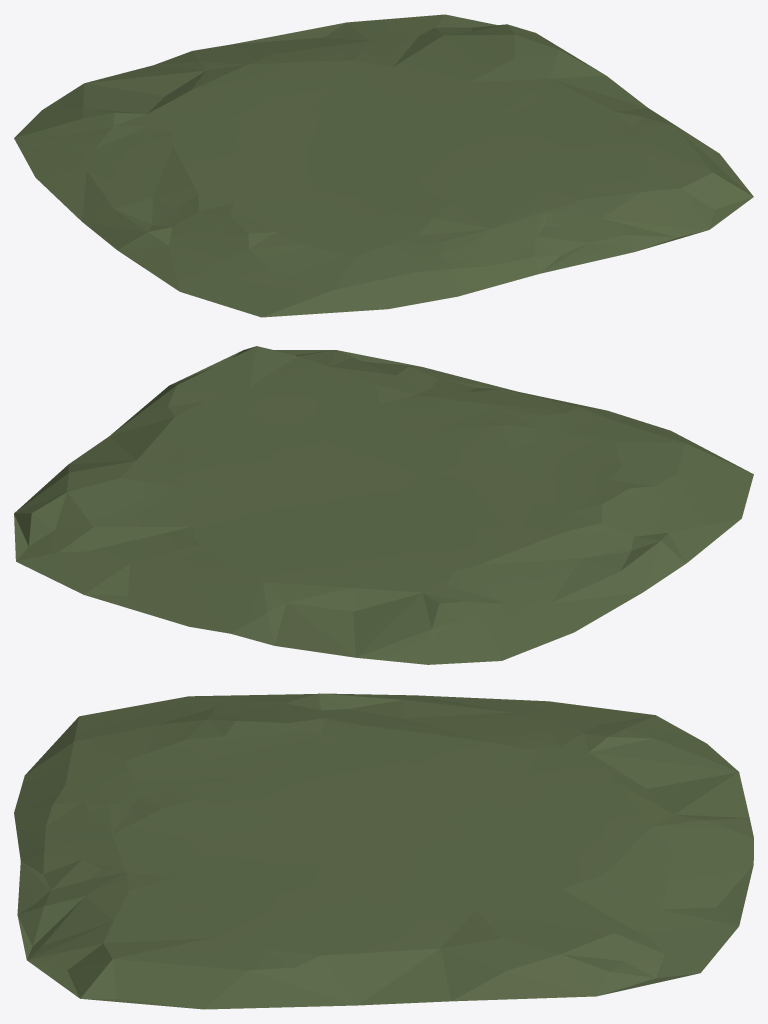
Rendered from SM_Gen_Env_Ground_Grass_04.obj.
The picture shows the model from 3 angles, top to bottom: view 1: azimuth 30°, elevation 25°; view 2: azimuth 150°, elevation 25°; view 3: azimuth 270°, elevation 25°; orthographic projection. The views are drawn at different scales.
Parts seen in each view (by area): view 1: SM_Gen_Env_Ground_Grass_04_0; view 2: SM_Gen_Env_Ground_Grass_04_0; view 3: SM_Gen_Env_Ground_Grass_04_0.
Boxes of the visible parts, x1,y1,x2,y2 form: SM_Gen_Env_Ground_Grass_04_0: (14, 14, 753, 317); SM_Gen_Env_Ground_Grass_04_0: (14, 346, 753, 664); SM_Gen_Env_Ground_Grass_04_0: (14, 693, 753, 1009).
Bounding box in the file's own units: 6.86 × 0.2991 × 6.79.
Materials: 1 (1 with a texture image).
